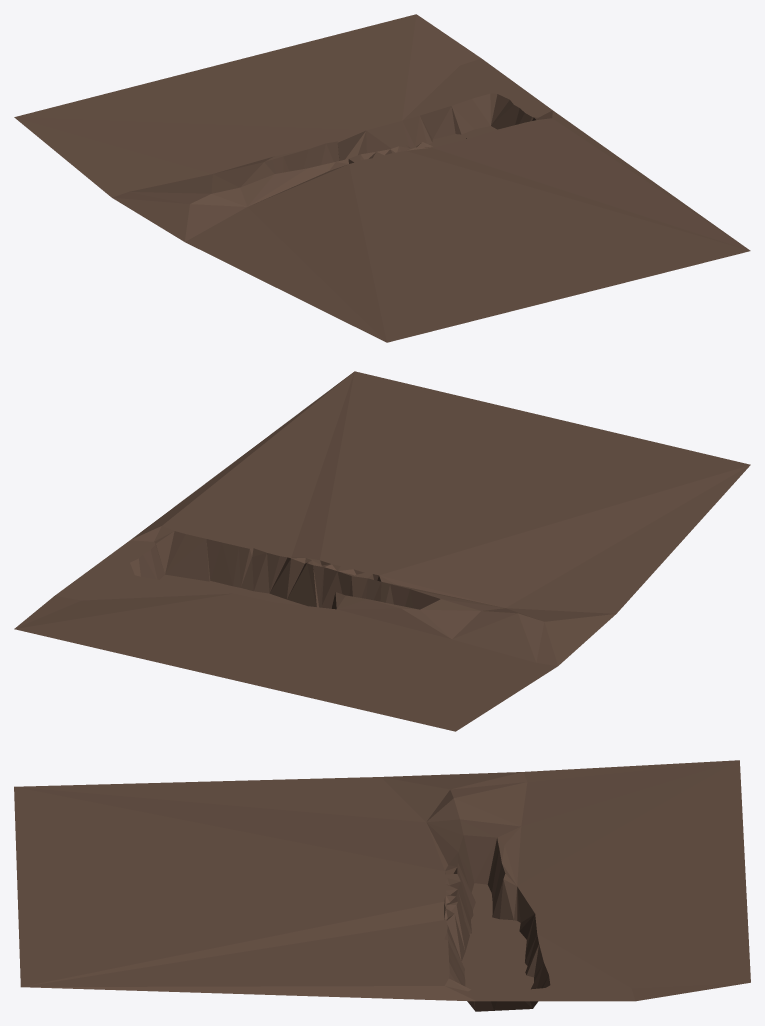
Rendered from Building Model - Excavation and Trench - updated_IfcSite.dae.
3 views of the same model, one above another, from view 1: azimuth 30°, elevation 25°; view 2: azimuth 150°, elevation 25°; view 3: azimuth 270°, elevation 25° (orthographic). The views are drawn at different scales.
Parts seen in each view (by area): view 1: 1kn71nZ$z5OvtVVlgfCser; view 2: 1kn71nZ$z5OvtVVlgfCser; view 3: 1kn71nZ$z5OvtVVlgfCser.
Boxes of the visible parts, left/top/right/bottom form: 1kn71nZ$z5OvtVVlgfCser: left=14, top=14, right=750, bottom=342; 1kn71nZ$z5OvtVVlgfCser: left=14, top=371, right=750, bottom=731; 1kn71nZ$z5OvtVVlgfCser: left=14, top=760, right=750, bottom=1011.
Size of the model in its own units: 88.86 by 120 by 7.
